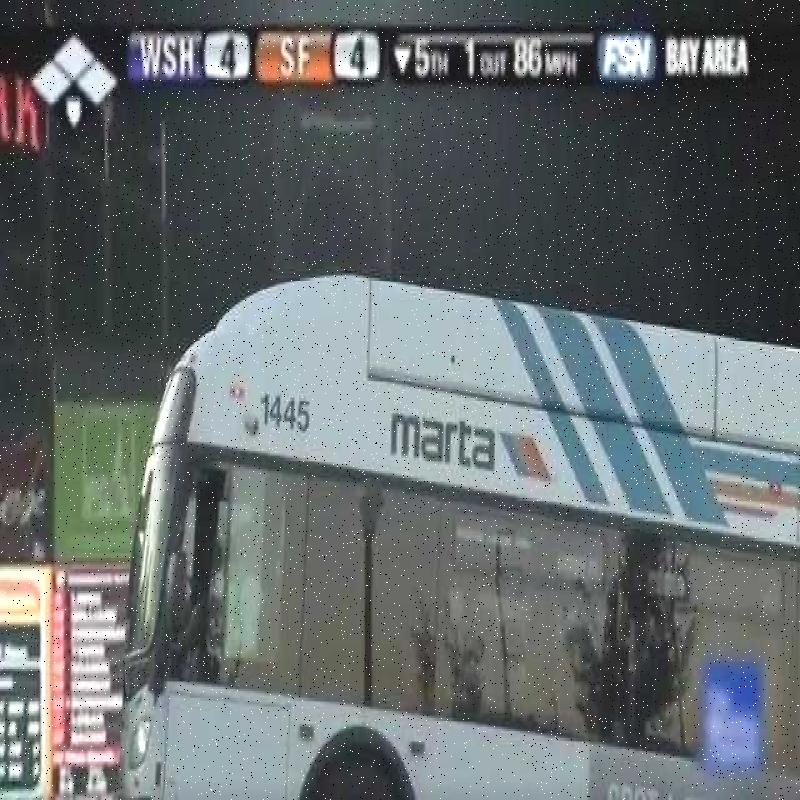bus: (121, 229, 799, 800)
